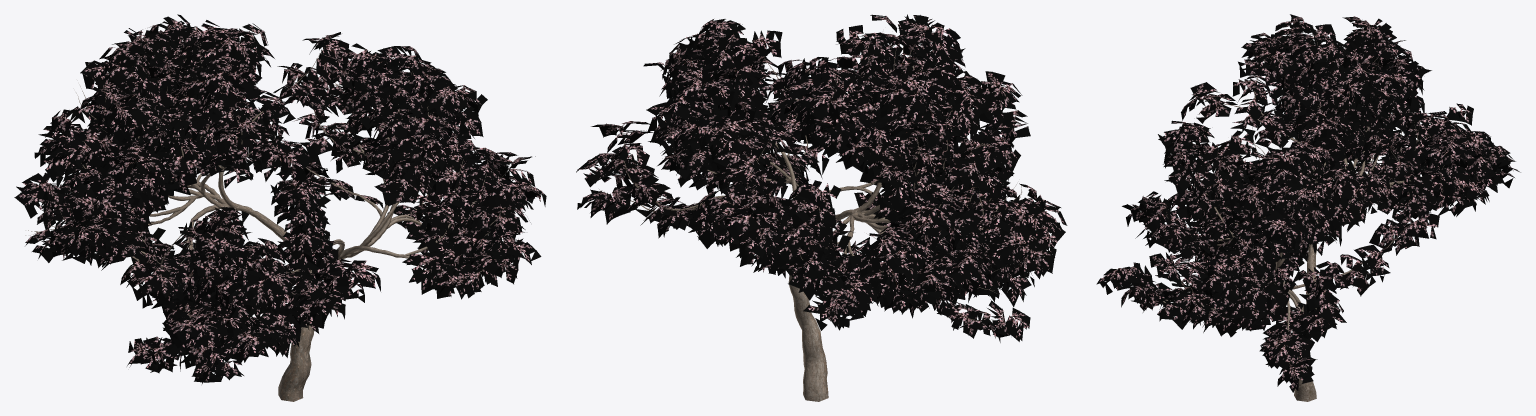
The model's file is Cherry_C_lod0.obj.
3 views of the same model, side by side, from view 1: azimuth 30°, elevation 25°; view 2: azimuth 150°, elevation 25°; view 3: azimuth 270°, elevation 25° (orthographic). The views are drawn at different scales.
Parts seen in each view (by area): view 1: model; view 2: model; view 3: model.
Part boxes in pixels (x1,y1,x2,y2): model: (14, 14, 546, 401); model: (576, 14, 1067, 401); model: (1096, 14, 1520, 401).
Bounding box in the file's own units: 133 × 97.54 × 113.
Materials: 2 (2 with a texture image).
